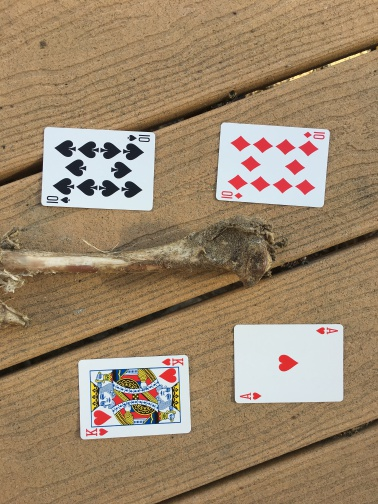ace: (231, 323, 344, 404)
king: (77, 354, 192, 439)
ten: (39, 125, 157, 212), (216, 121, 332, 209)
